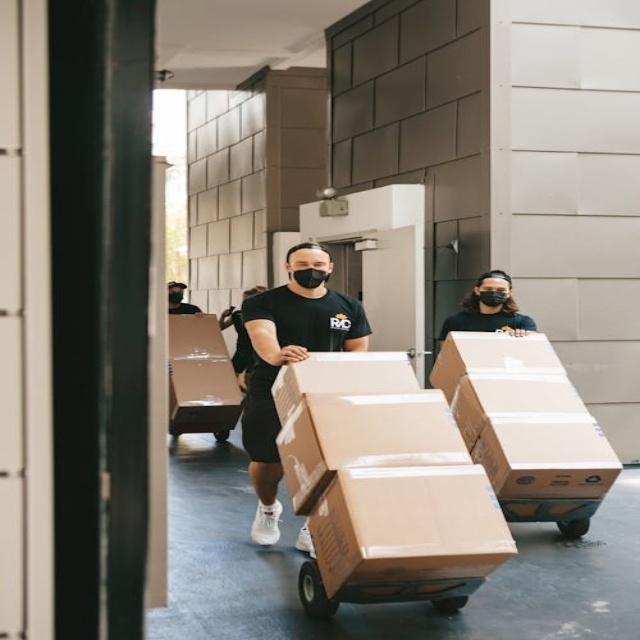Mascara: (291, 267, 329, 288), (478, 291, 509, 307), (168, 292, 183, 303)
Sin_gafas: (291, 258, 328, 266), (480, 282, 509, 290)
Sin_guantes: (278, 345, 310, 364)
